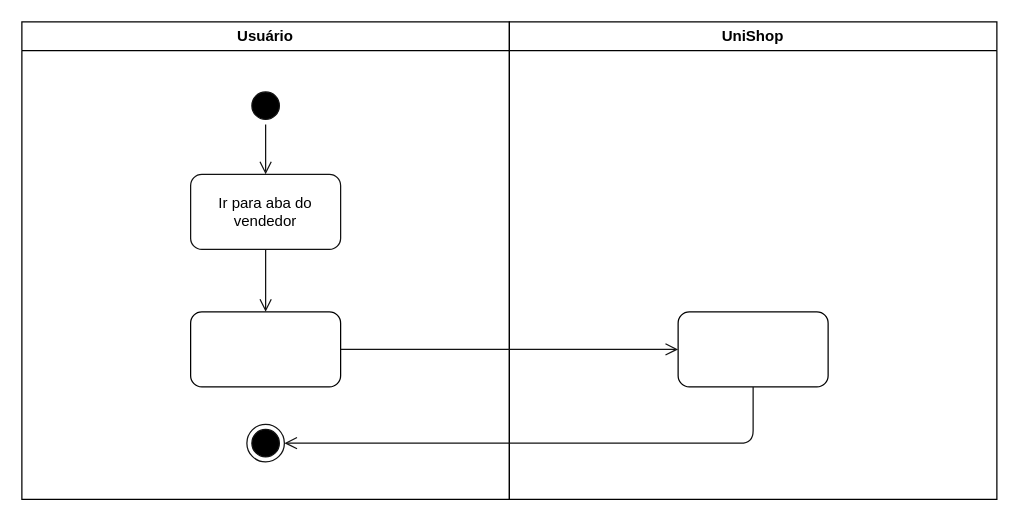
Some shapes in this 1019 by 521 pixel diagram are drawn without their labels. Each missing label, with the centre of its shape:
"Apertar em estar disponível" belongs at pixel 265 349.
"Exibir os produtos cadastrados na tela inicial" belongs at pixel 752 349.
